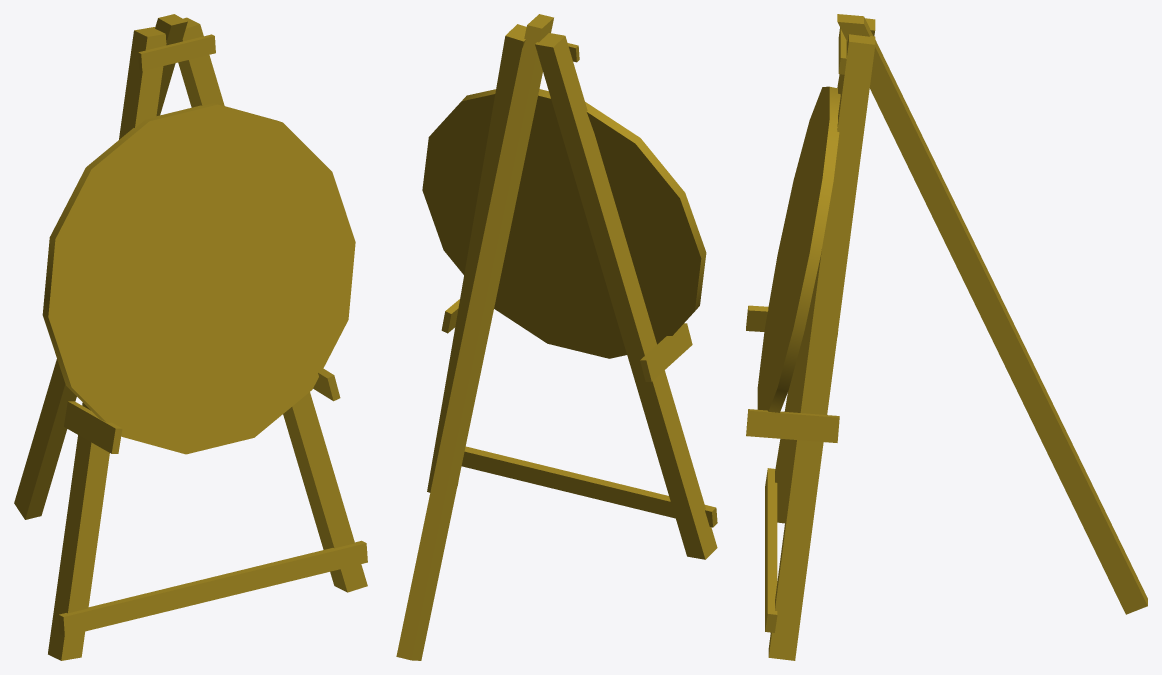
The model's file is BlancoSeminarioIdle.fbx.
3 views of the same model, side by side, from view 1: azimuth 30°, elevation 25°; view 2: azimuth 150°, elevation 25°; view 3: azimuth 270°, elevation 25° (orthographic). The views are drawn at different scales.
Parts seen in each view (by area): view 1: pCylinder2, polySurface3, polySurface2, pCube2, pCube3, polySurface5, pCube6, polySurface6; view 2: pCylinder2, polySurface3, pCube3, polySurface2, pCube2, polySurface5; view 3: pCube3, polySurface2, pCylinder2, polySurface6, polySurface3, pCube2.
Part boxes in pixels (x1=…): pCylinder2: x1=42, y1=103, x2=355, y2=454; polySurface3: x1=48, y1=27, x2=166, y2=660; polySurface2: x1=178, y1=17, x2=367, y2=592; pCube2: x1=58, y1=540, x2=367, y2=636; pCube3: x1=14, y1=14, x2=187, y2=519; polySurface5: x1=64, y1=401, x2=122, y2=453; pCube6: x1=138, y1=34, x2=215, y2=70; polySurface6: x1=313, y1=368, x2=340, y2=401; pCylinder2: x1=422, y1=89, x2=706, y2=358; polySurface3: x1=535, y1=33, x2=717, y2=559; pCube3: x1=396, y1=14, x2=553, y2=660; polySurface2: x1=427, y1=24, x2=526, y2=492; pCube2: x1=461, y1=446, x2=717, y2=527; polySurface5: x1=640, y1=323, x2=692, y2=381; pCube3: x1=837, y1=14, x2=1147, y2=614; polySurface2: x1=768, y1=34, x2=875, y2=660; pCylinder2: x1=757, y1=86, x2=840, y2=412; polySurface6: x1=746, y1=409, x2=839, y2=442; polySurface3: x1=775, y1=18, x2=875, y2=523; pCube2: x1=765, y1=468, x2=777, y2=632.
Bounding box in the file's own units: 2 × 3.74 × 2.3.
